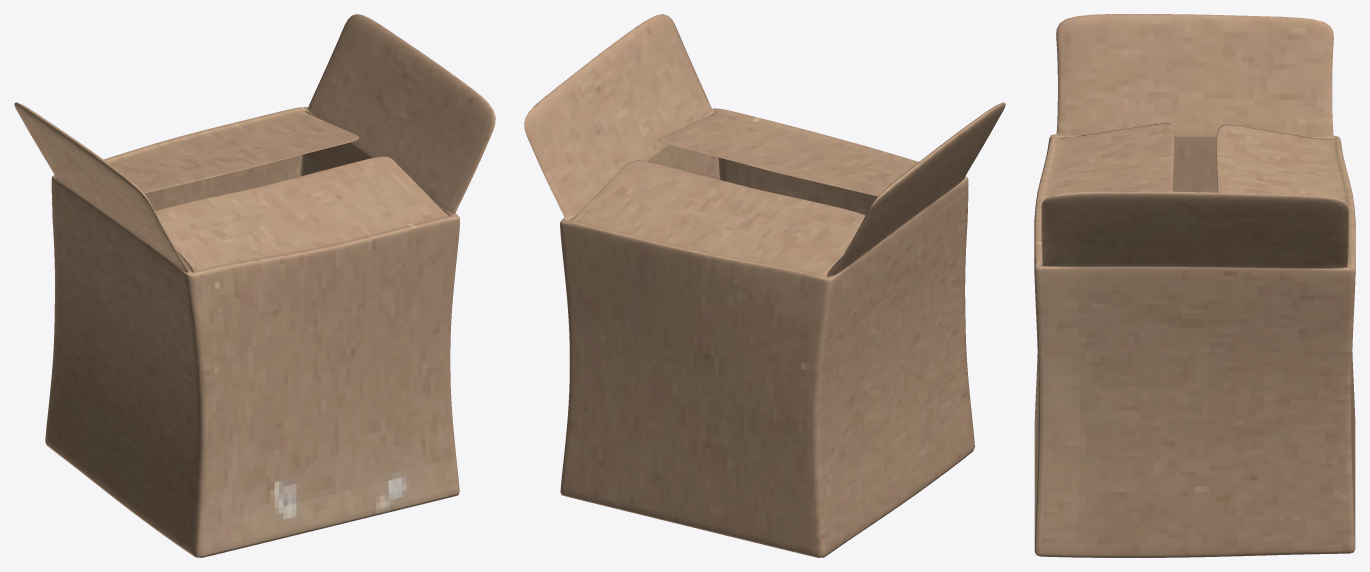
Rendered from BeatenCardboard2.fbx.
3 views of the same model, side by side, from view 1: azimuth 30°, elevation 25°; view 2: azimuth 150°, elevation 25°; view 3: azimuth 270°, elevation 25° (orthographic). The views are drawn at different scales.
Parts seen in each view (by area): view 1: BoxBeaten; view 2: BoxBeaten; view 3: BoxBeaten.
Part boxes in pixels (<box>): BoxBeaten: <box>14,14,495,557</box>; BoxBeaten: <box>524,14,1005,557</box>; BoxBeaten: <box>1034,14,1355,557</box>.
Bounding box in the file's own units: 4.44 × 4.52 × 3.38.
1 material, 1 textured.
